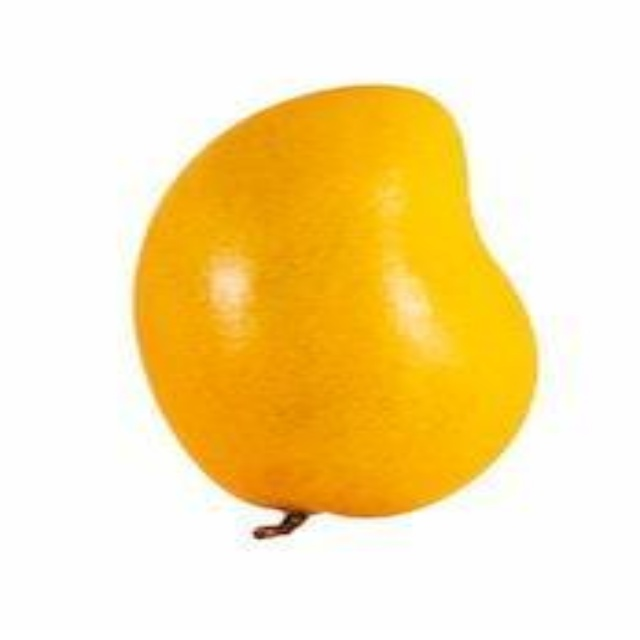mango: (138, 86, 541, 541)
